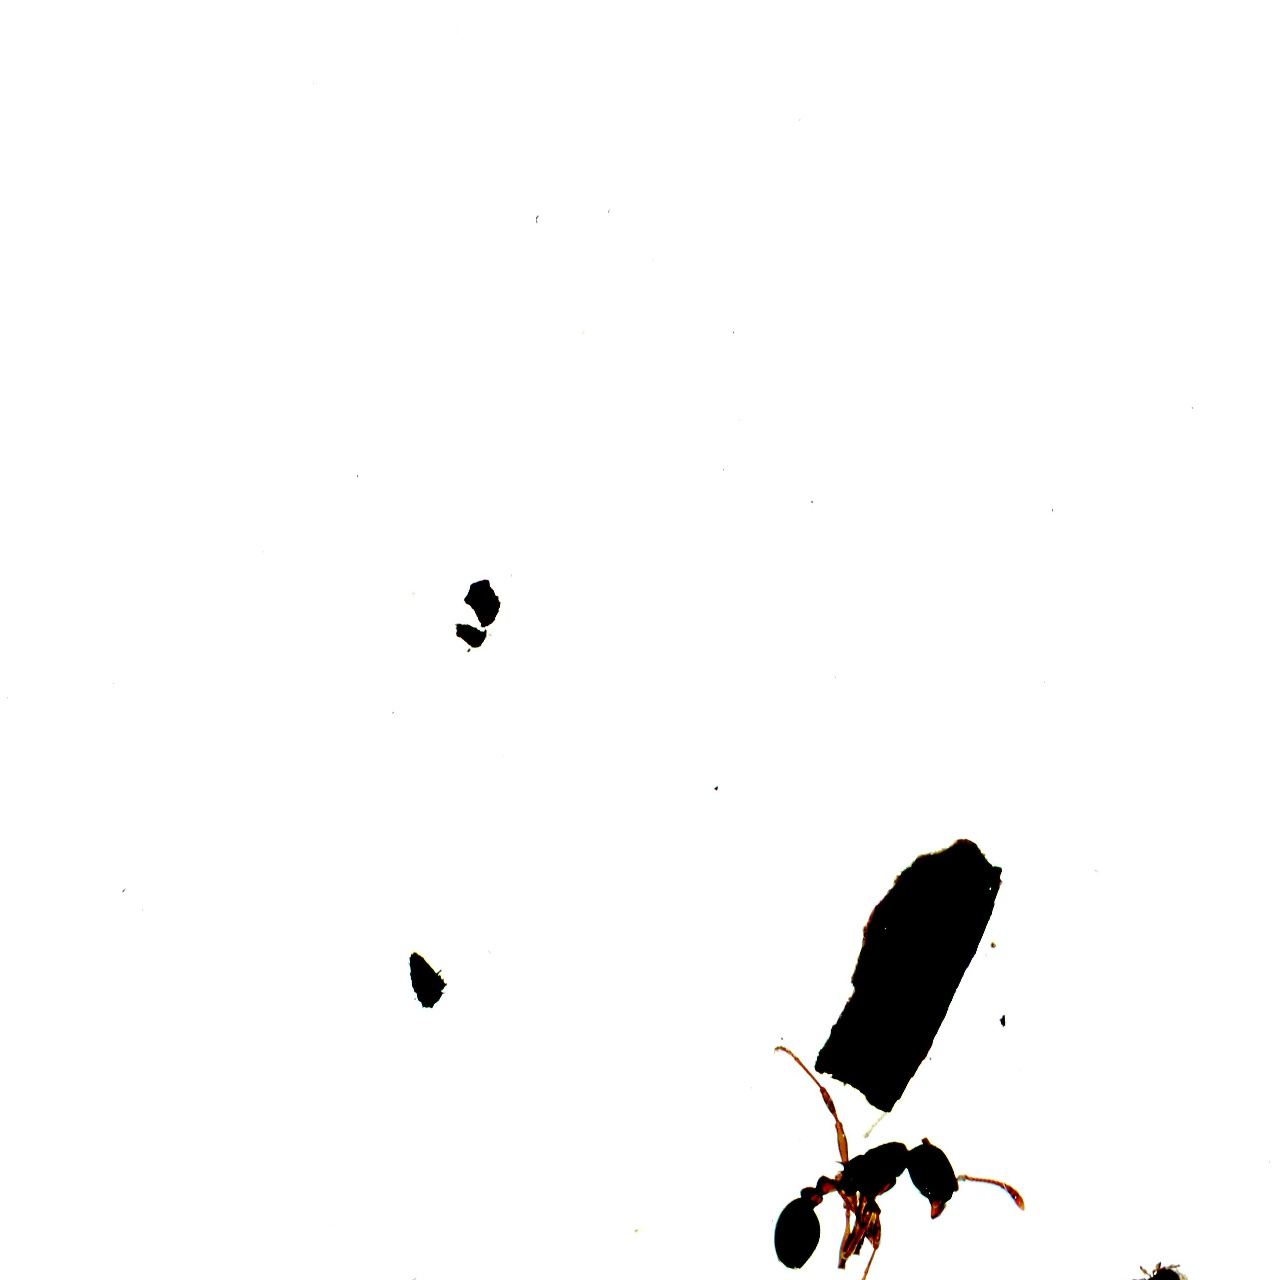arthropod: (758, 1024, 1036, 1280), (1114, 1257, 1193, 1280)
